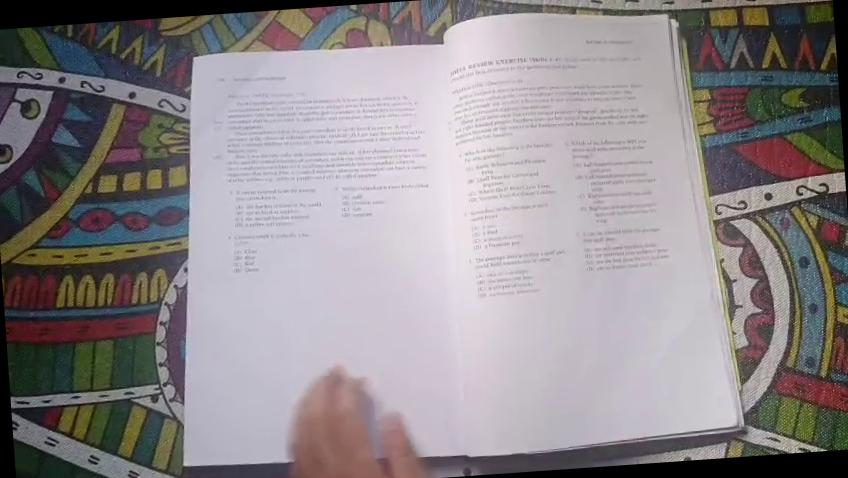Kertas: (439, 18, 700, 459), (193, 40, 462, 372)
